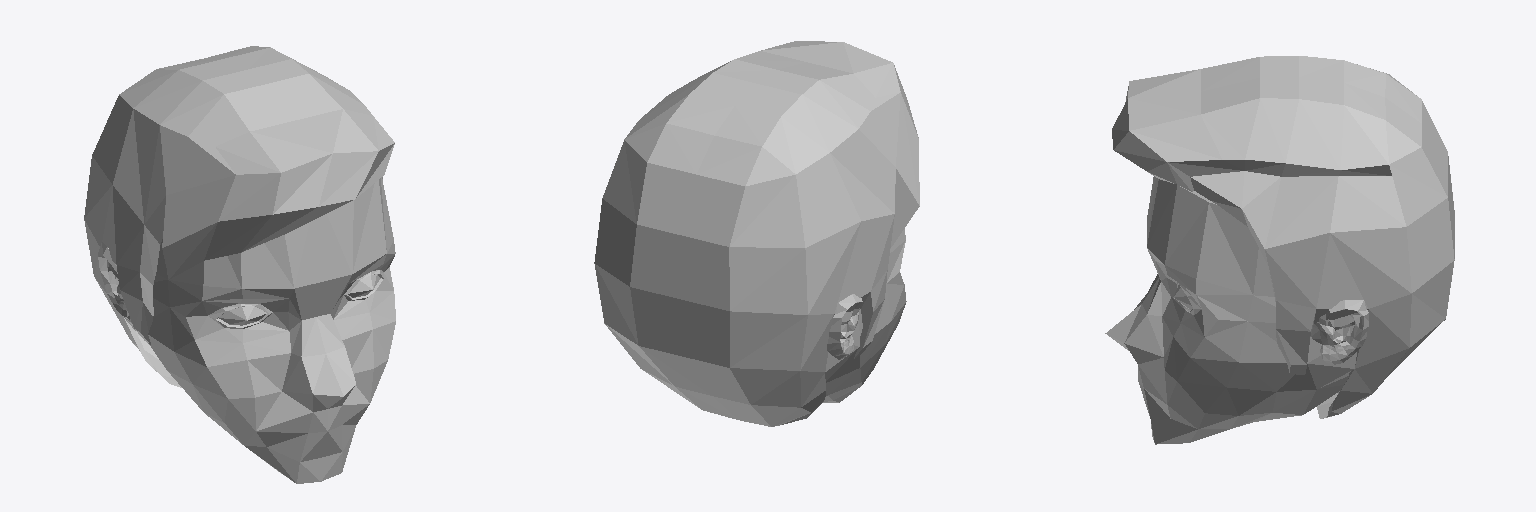
The model's file is NeutralMale_closed.obj.
3 renders of one model, left to right at view 1: azimuth 30°, elevation 25°; view 2: azimuth 150°, elevation 25°; view 3: azimuth 270°, elevation 25°, orthographic.
Visible parts, largest first — view 1: hair_Cube.009, face_Cube; view 2: hair_Cube.009, face_Cube; view 3: hair_Cube.009, face_Cube.
Part boxes in pixels (left/top/right/bottom): hair_Cube.009: left=84, top=46, right=394, bottom=387; face_Cube: left=98, top=177, right=395, bottom=483; hair_Cube.009: left=594, top=41, right=919, bottom=426; face_Cube: left=823, top=229, right=906, bottom=402; hair_Cube.009: left=1112, top=56, right=1454, bottom=418; face_Cube: left=1105, top=176, right=1368, bottom=444.
Bounding box in the file's own units: 4.74 × 6.6 × 5.84.